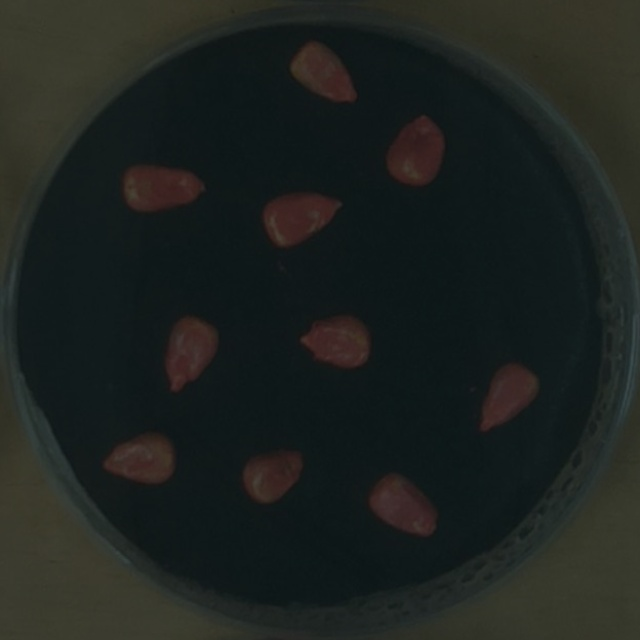Zea mays: (254, 182, 350, 257), (469, 353, 547, 439), (362, 464, 446, 543), (156, 307, 227, 398), (114, 156, 214, 220), (283, 31, 365, 109), (377, 106, 451, 192), (294, 303, 379, 376), (94, 424, 182, 491), (233, 438, 311, 509)
